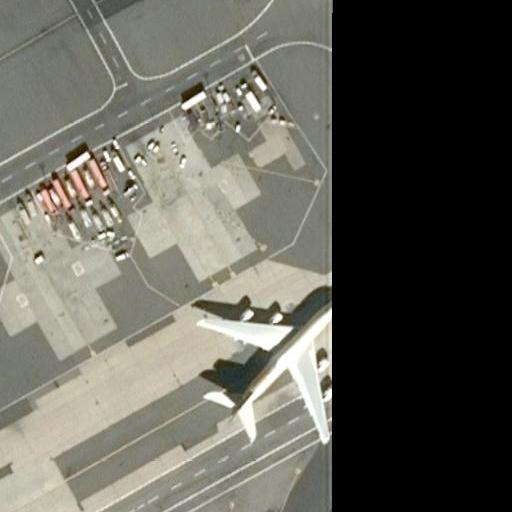Aircraft: (187, 276, 336, 449)
